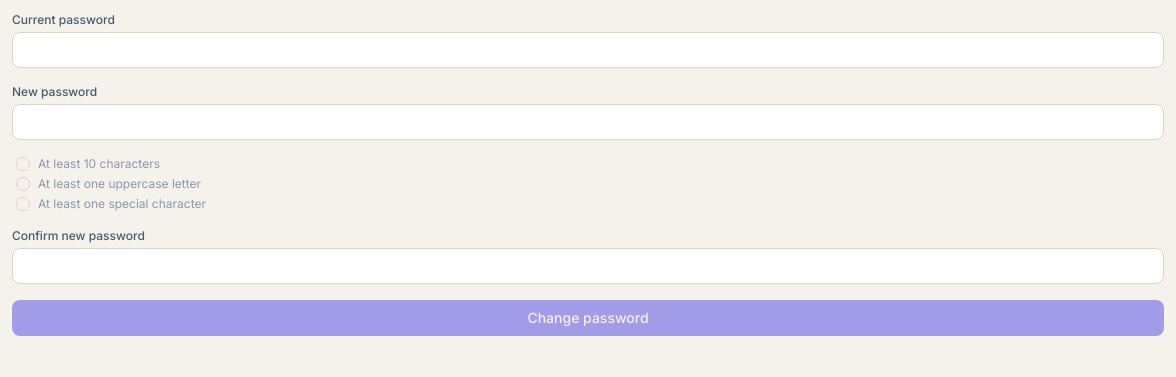
Test case: ChangePasswordForm › 400 VALIDATION_ERROR maps server field errors to the right input
This screenshot has width=1176, height=377.
Type "old" into the password field labelled "Current password". click: {"x": 588, "y": 50}
box: [12, 32, 1164, 68]
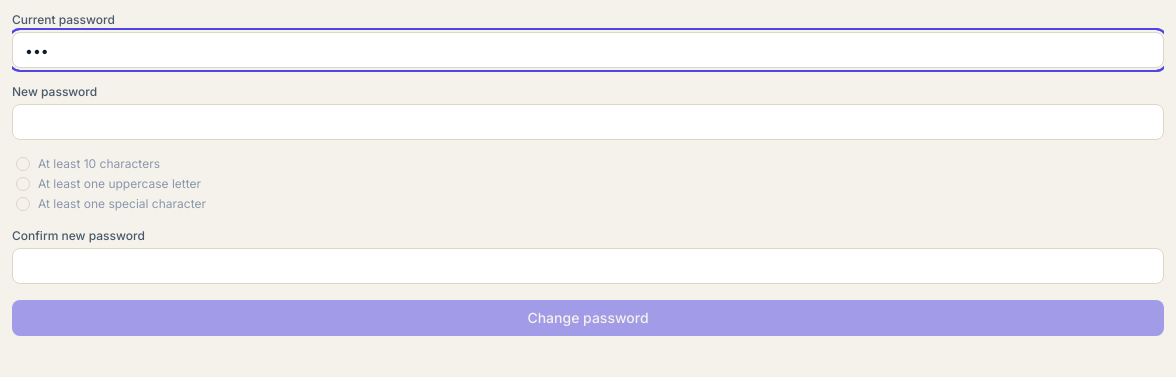
Type "Abcdefghij!" into the password field labelled "New password". click: {"x": 588, "y": 122}
box: [12, 104, 1164, 140]
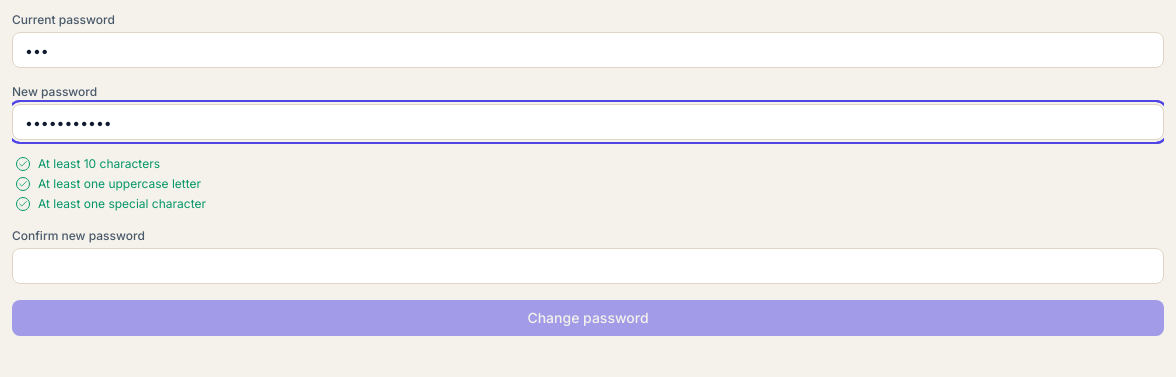
Type "Abcdefghij!" into the password field labelled "Confirm new password". click: {"x": 588, "y": 266}
box: [12, 248, 1164, 284]
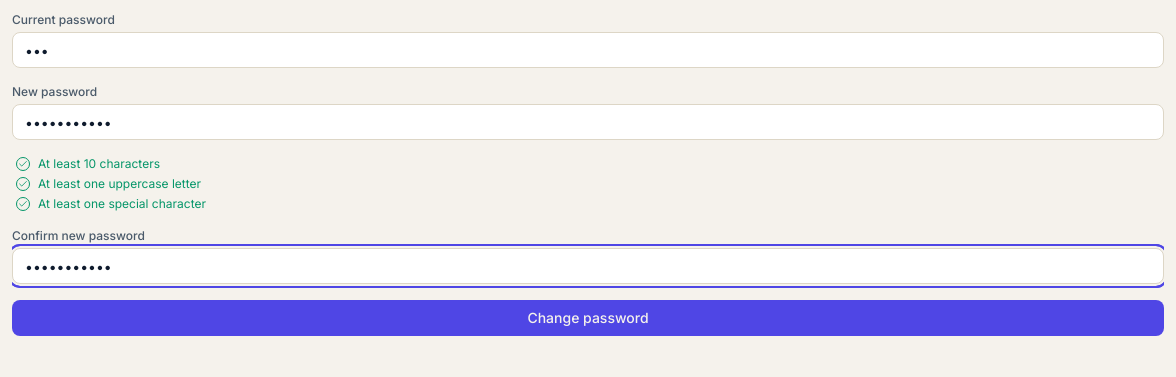
Click the button "Change password". click: {"x": 588, "y": 318}
box: [12, 300, 1164, 336]
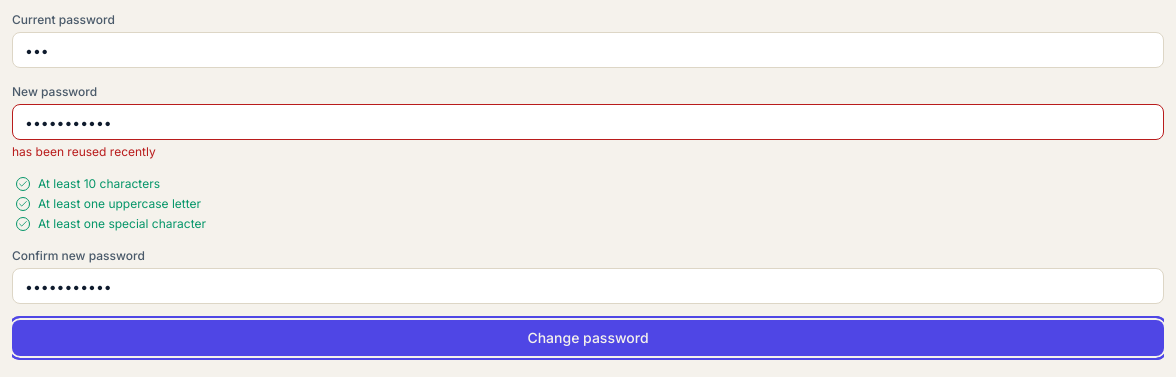
Now the text "has been reused recently" is shown, box [12, 144, 156, 159]
